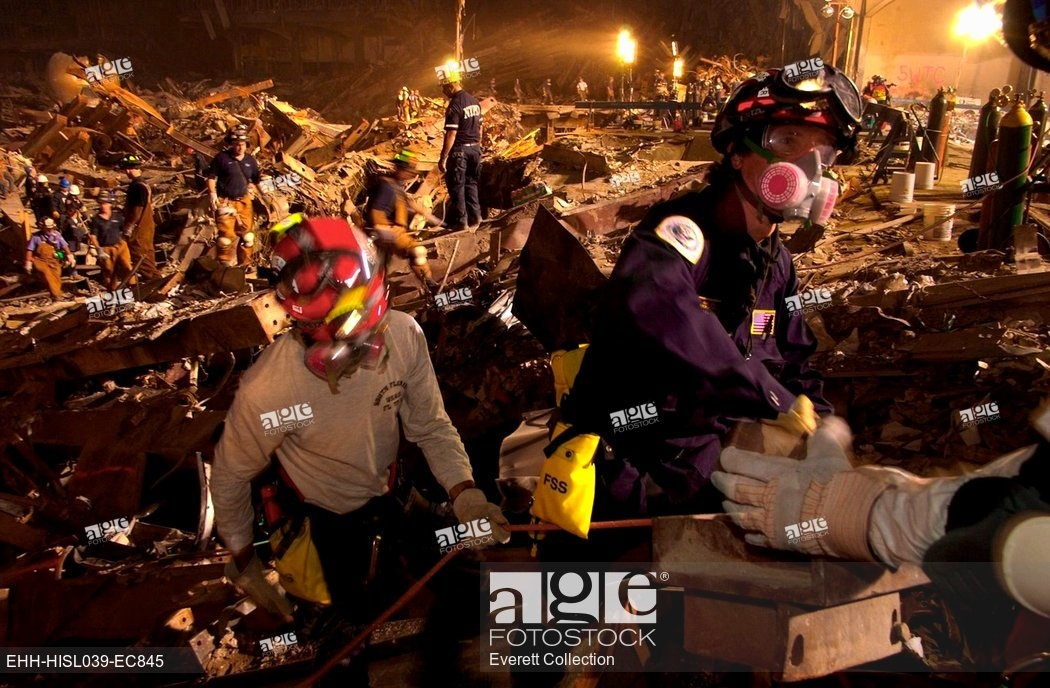blue: (59, 178, 70, 192)
red: (712, 63, 861, 224), (266, 215, 393, 376), (224, 124, 251, 156), (37, 216, 57, 236), (186, 147, 196, 158)
white: (68, 184, 81, 201), (37, 174, 48, 189)
yellow: (438, 69, 463, 95), (120, 155, 142, 179)
